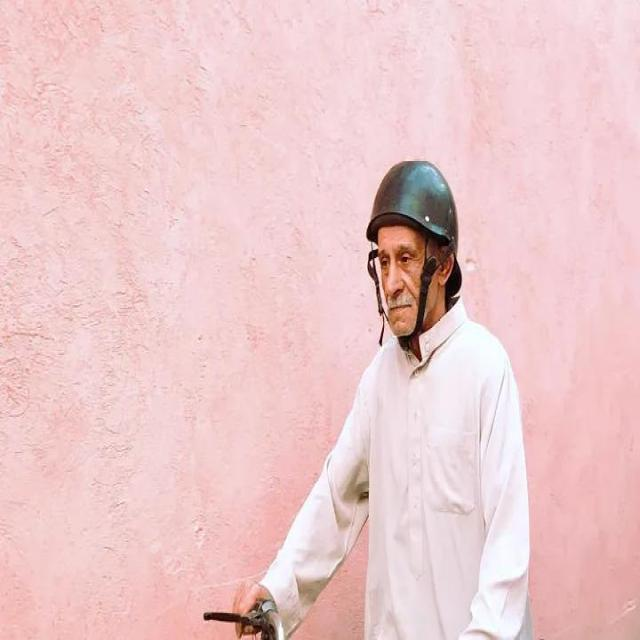helmet: (364, 154, 464, 344)
